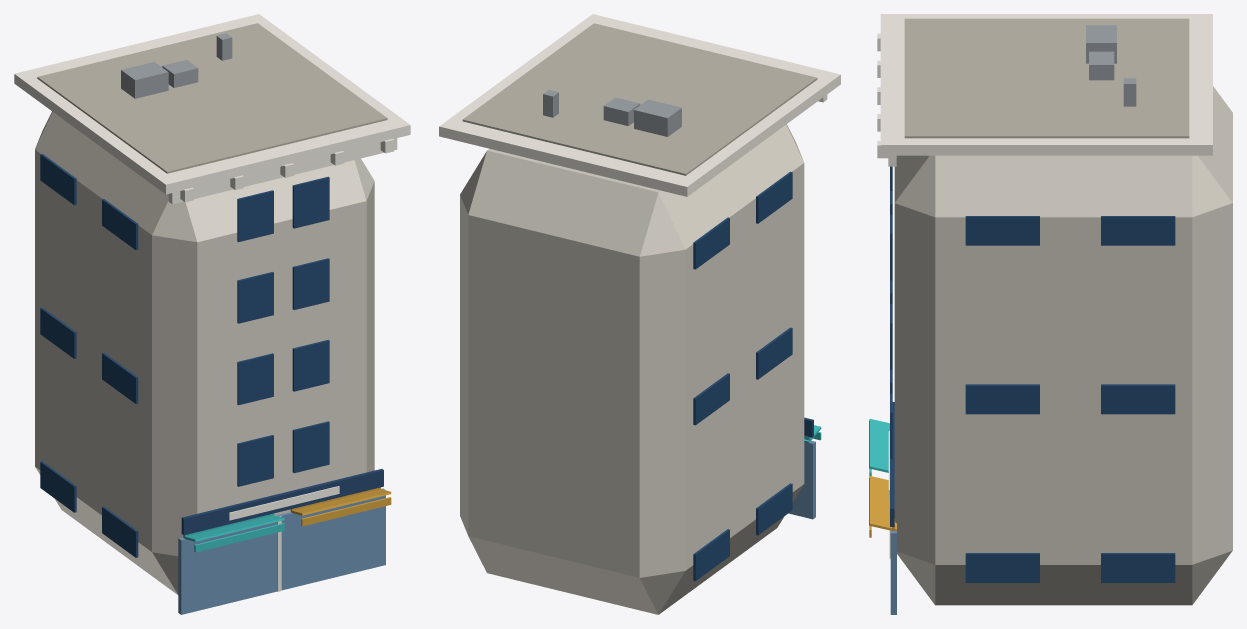
Rendered from mixed_w10_f5_punched.glb.
3 renders of one model, left to right at view 1: azimuth 30°, elevation 25°; view 2: azimuth 150°, elevation 25°; view 3: azimuth 270°, elevation 25°, orthographic. The views are drawn at different scales.
Parts seen in each view (by area): view 1: walls, roofslab, shopglass, corn, fascia, frieze, win.007, win.003, win.005, win.001, win, win.004 (+15 smaller); view 2: walls, roofslab, corn, hvac, shopglass, sb.010, sb, sb.004, sb.008, sb.002, sb.006, hvac2; view 3: walls, roofslab, corn, sb.005, sb.007, sb.001, sb.003, sb.009, sb.011, awn.001, awn, hvac (+3 smaller).
Boxes of the visible parts, box(x1,y1,x2,y2) form: walls: box(35, 111, 374, 594); roofslab: box(37, 23, 387, 173); shopglass: box(178, 488, 385, 614); corn: box(14, 14, 410, 194); fascia: box(181, 469, 383, 535); frieze: box(168, 138, 397, 204); win.007: box(292, 176, 329, 228); win.003: box(292, 339, 329, 391); win.005: box(292, 258, 329, 309); win.001: box(292, 421, 329, 473); win: box(237, 435, 273, 486); win.004: box(237, 272, 273, 323); walls: box(460, 124, 804, 614); roofslab: box(462, 23, 817, 175); corn: box(439, 14, 840, 196); hvac: box(634, 99, 681, 136); shopglass: box(788, 440, 815, 519); sb.010: box(693, 217, 729, 269); sb: box(756, 483, 792, 535); sb.004: box(756, 327, 792, 379); sb.008: box(756, 171, 792, 223); sb.002: box(693, 529, 729, 580); sb.006: box(693, 373, 729, 425); hvac2: box(603, 97, 640, 126); walls: box(894, 86, 1232, 605); roofslab: box(904, 18, 1189, 138); corn: box(880, 14, 1212, 155); sb.005: box(965, 384, 1039, 414); sb.007: box(1101, 384, 1175, 414); sb.001: box(965, 553, 1039, 582); sb.003: box(1101, 553, 1175, 582); sb.009: box(965, 216, 1039, 245); sb.011: box(1101, 216, 1175, 245); awn.001: box(869, 476, 896, 530); awn: box(869, 419, 889, 472); hvac: box(1086, 25, 1116, 63).
Size of the model in its own units: 11 by 19.8 by 12.91.
